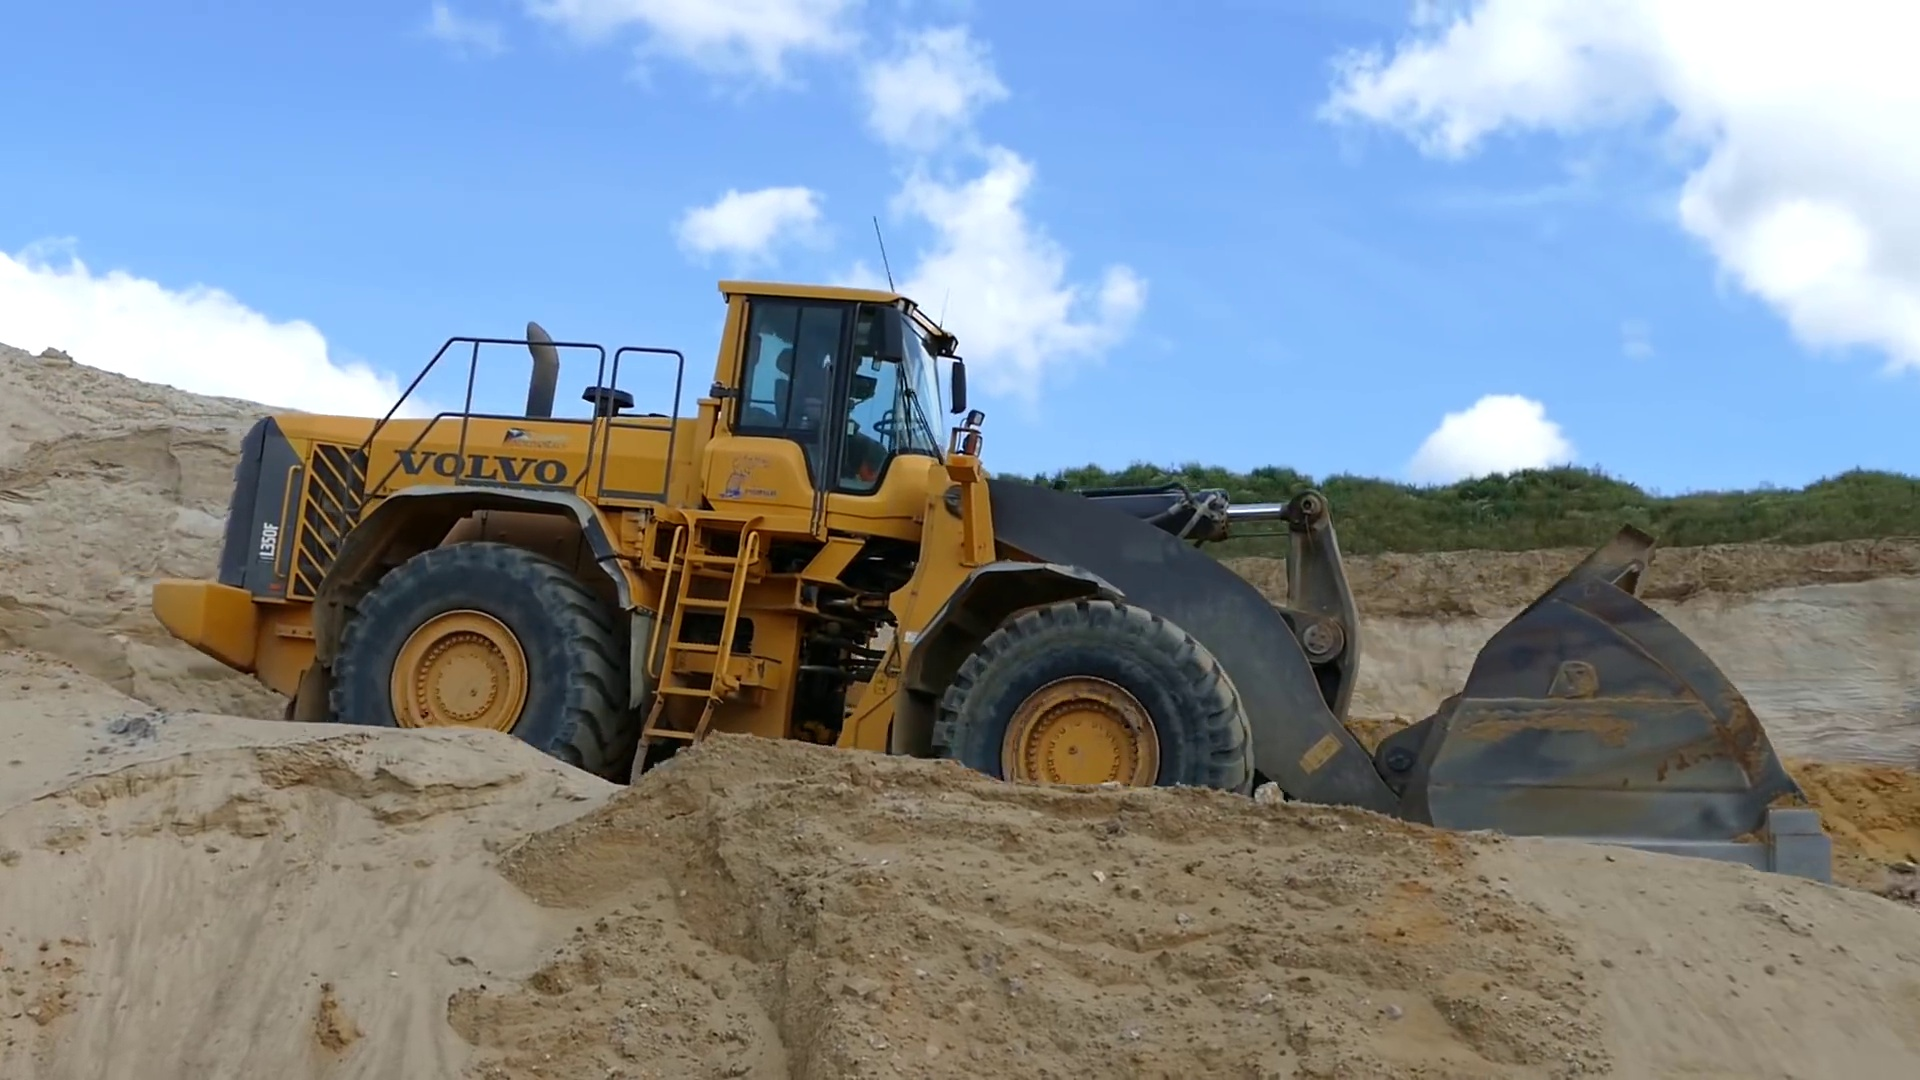wheel loader: (152, 277, 1836, 910)
